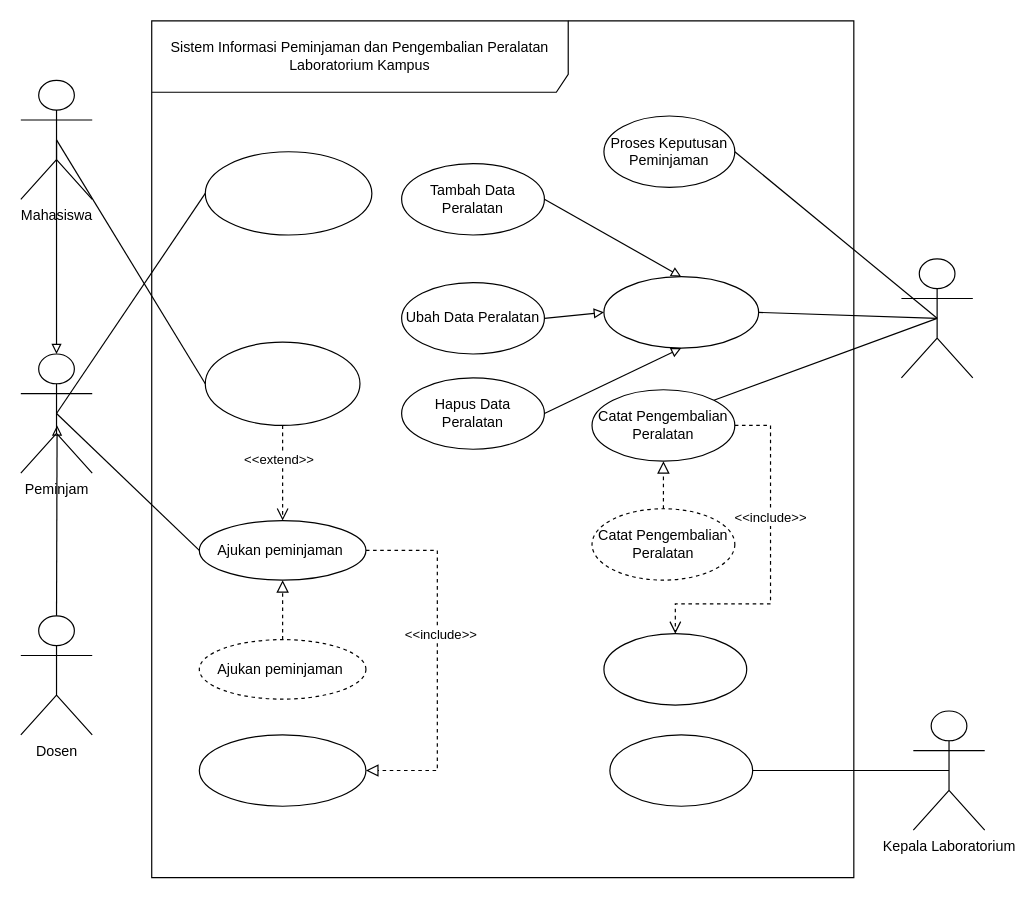
The diagram is 1035 pixels wide and 898 high, and some of its shapes have lost their labels. The shapes that lost their labels are listed below. From the top down, each one's box as (x1, y1, x2, y2) in pixels, then its label:
(204, 151, 372, 235): Lihat ketersediaan Peralatan
(603, 275, 759, 348): Kelola Data Peralatan
(900, 258, 973, 378): Petugas Laboratorium
(204, 341, 360, 425): Cetak bukti Pengajuan
(603, 632, 747, 705): Periksa Kondisi Peralatan
(198, 734, 366, 806): Periksa Ketersediaan
(609, 734, 753, 806): Lihat Laporan Peminjaman
